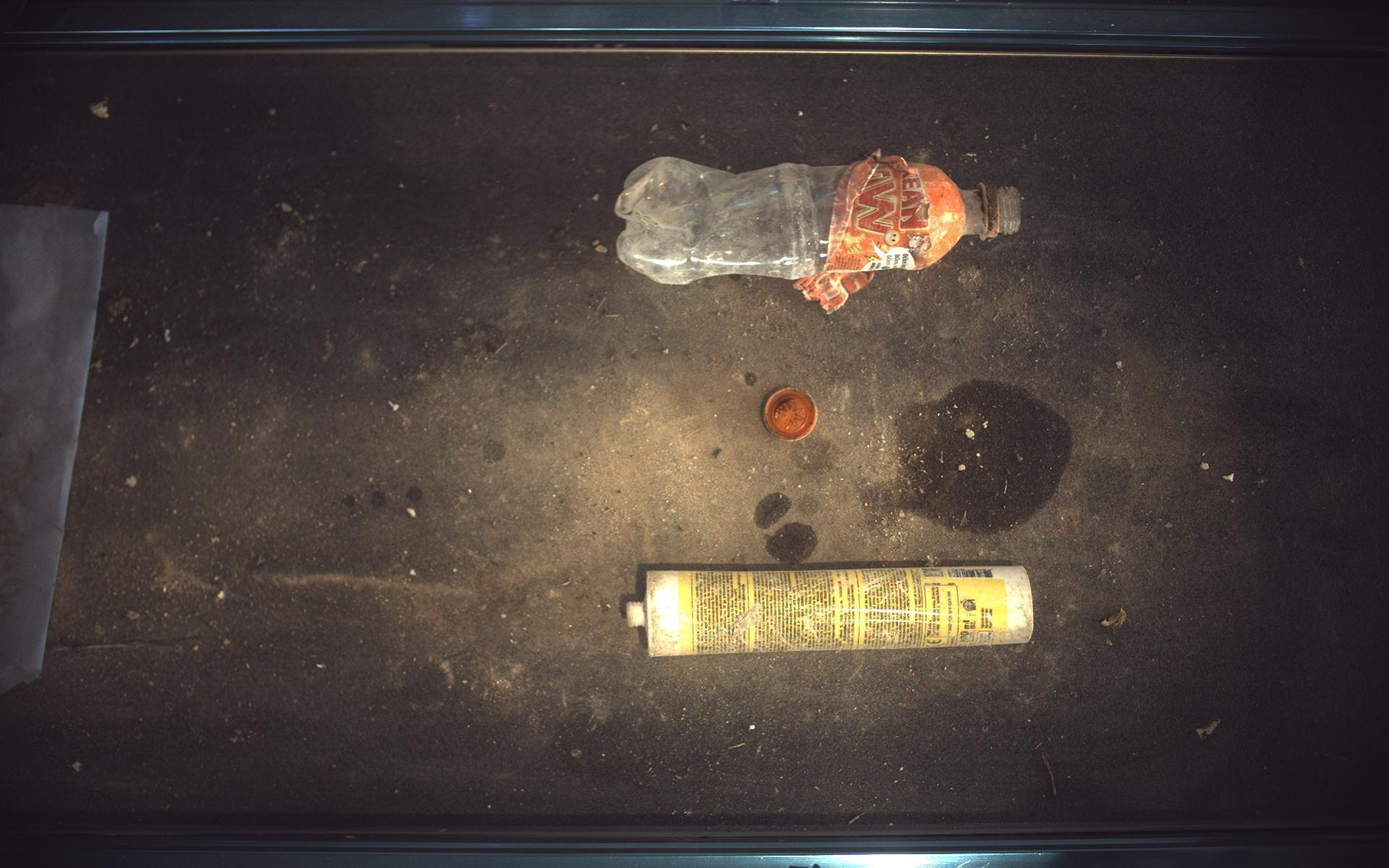general_w: (616, 150, 1023, 312)
plastic: (626, 566, 1036, 658)
